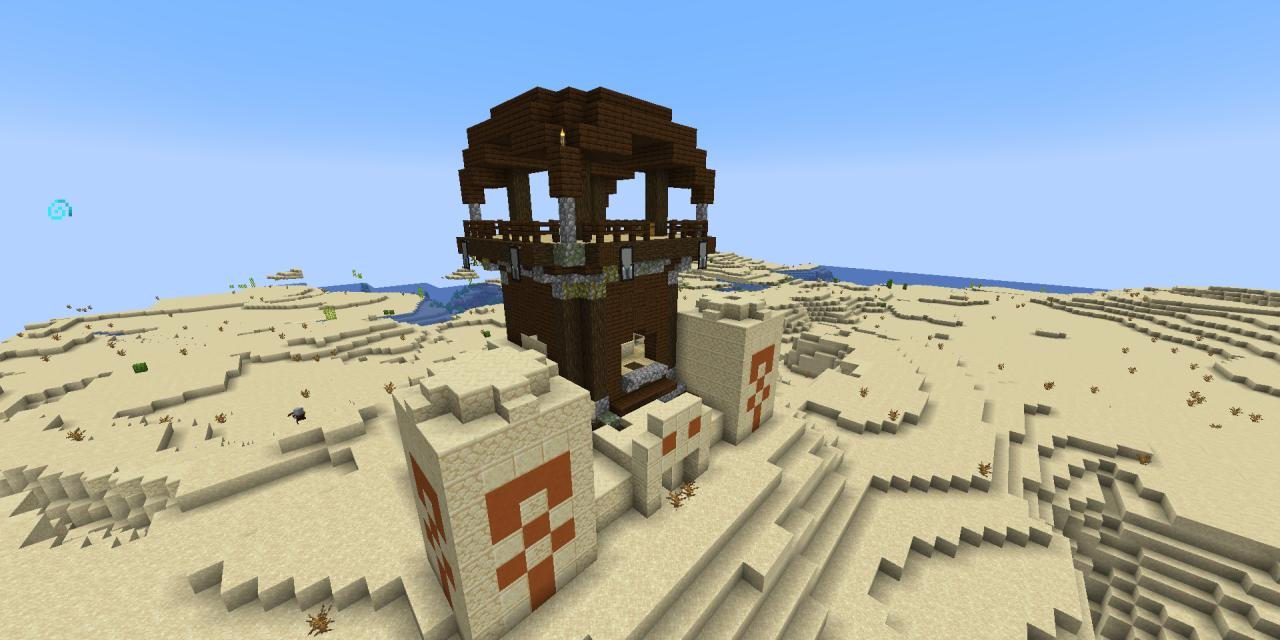desert temple: (381, 266, 814, 640)
pillager outpost: (450, 80, 734, 436)
